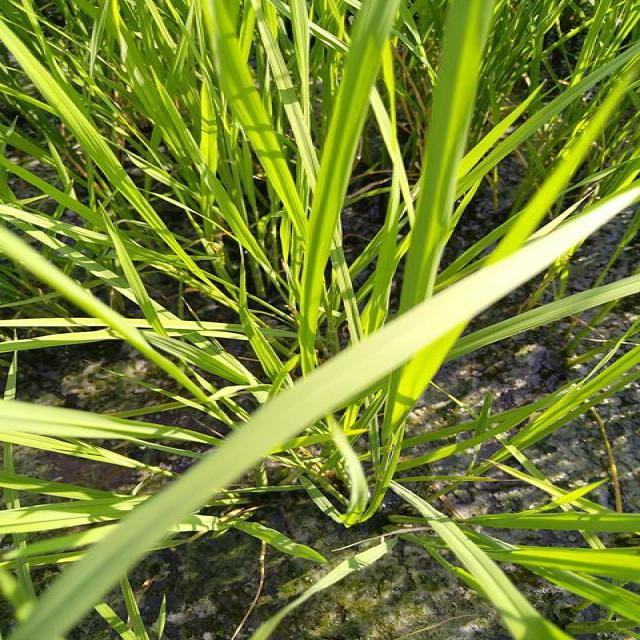Rice: (0, 0, 291, 234), (290, 0, 393, 356), (395, 0, 485, 316), (391, 483, 571, 639), (486, 43, 634, 176), (515, 273, 640, 324), (110, 234, 166, 338), (569, 570, 640, 624), (449, 316, 536, 358), (571, 541, 640, 577), (569, 512, 640, 528)
